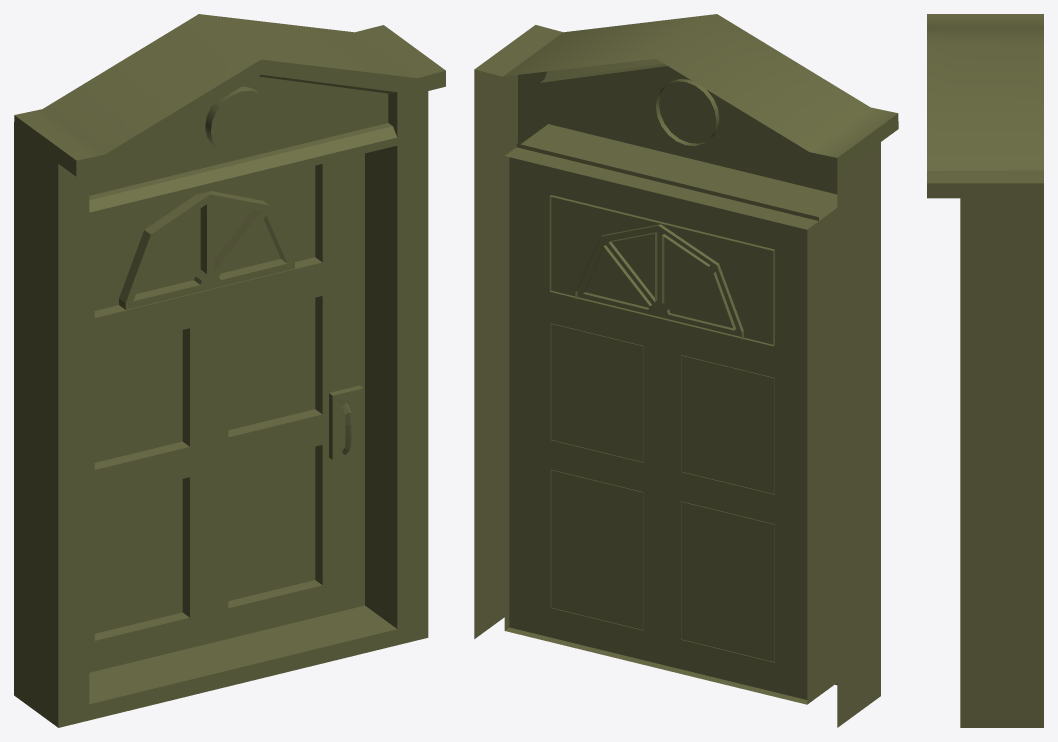
Rendered from d_door model.fbx.
3 renders of one model, left to right at view 1: azimuth 30°, elevation 25°; view 2: azimuth 150°, elevation 25°; view 3: azimuth 270°, elevation 25°, orthographic. The views are drawn at different scales.
Visible parts, largest first — view 1: pCube5; view 2: pCube5; view 3: pCube5.
Part boxes in pixels (bbox=[...]): pCube5: bbox=[14, 14, 445, 727]; pCube5: bbox=[474, 14, 898, 727]; pCube5: bbox=[927, 14, 1043, 727].
Bounding box in the file's own units: 240 × 395 × 70.03.
